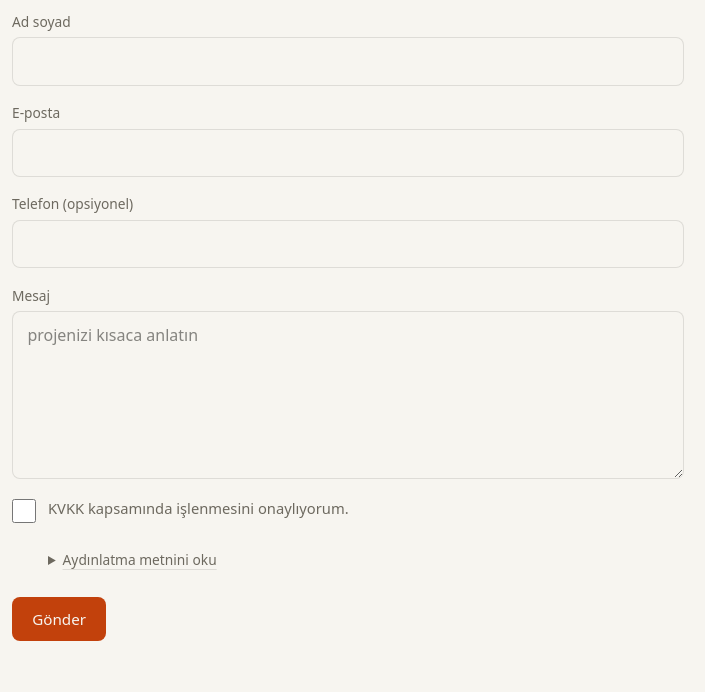
ContactForm › blocks submit while KVKK is unchecked, shows the consent message, no POST
Type "Ada Lovelace" into the field labelled "Ad soyad". click: (348, 62)
box: [12,37,684,86]
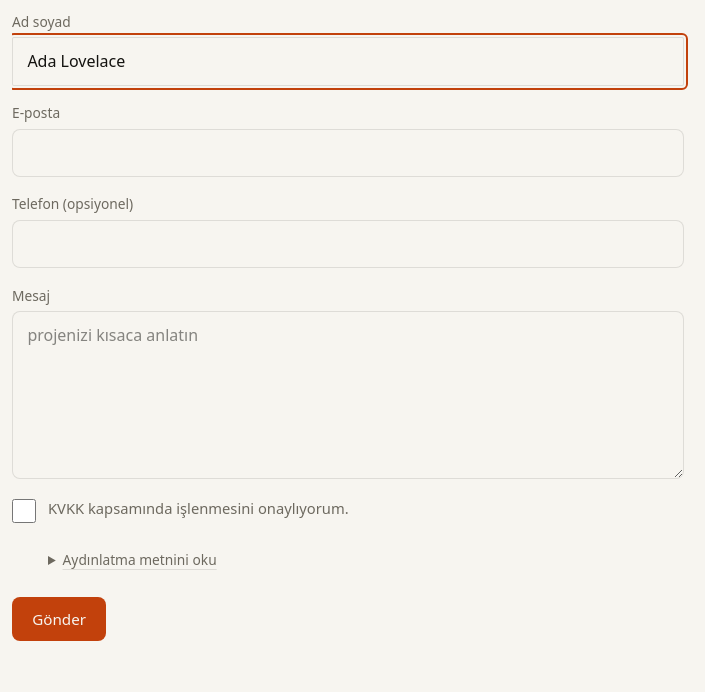
Type "ada@example.com" into the field labelled "E-posta". click: (348, 153)
box: [12,128,684,177]
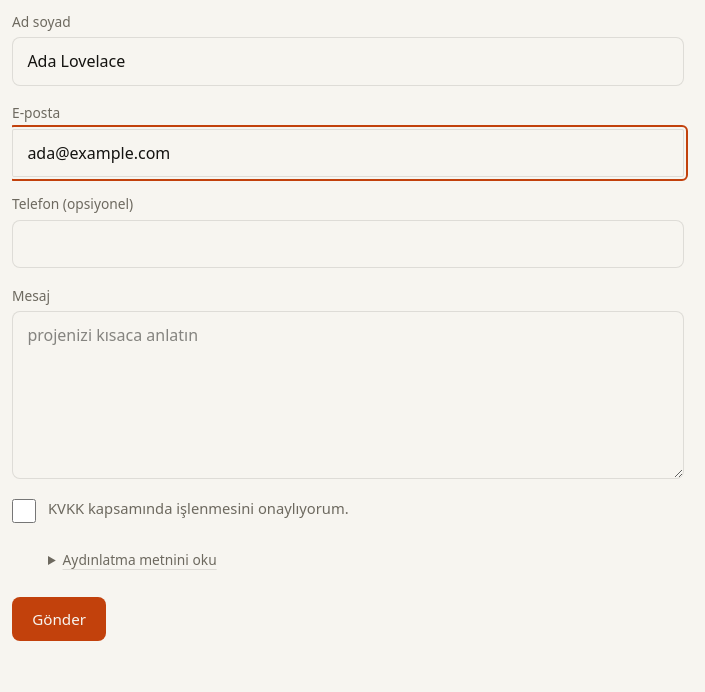
Type "Kurumsal web sitesi projesi." into the text box labelled "Mesaj". click: (348, 395)
box: [12,311,684,479]
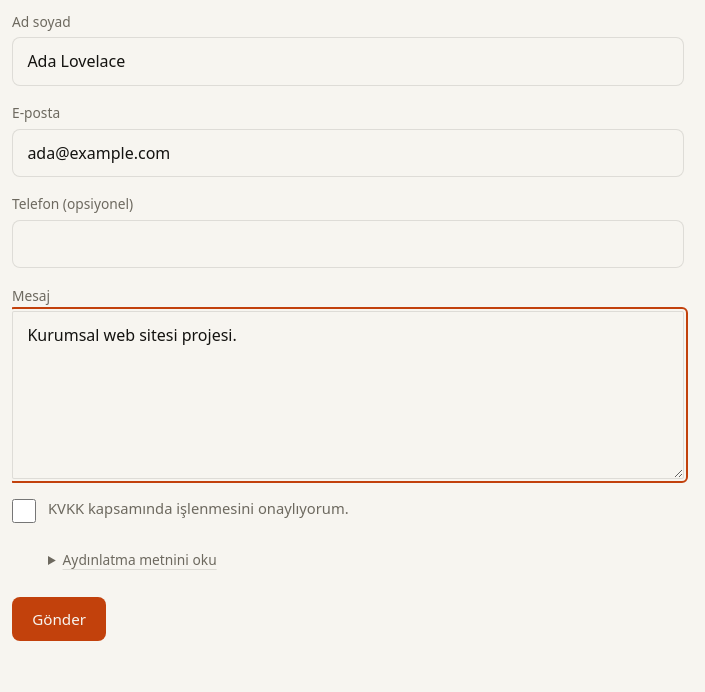
Click the button "Gönder". click: (59, 619)
box: [12,597,106,641]
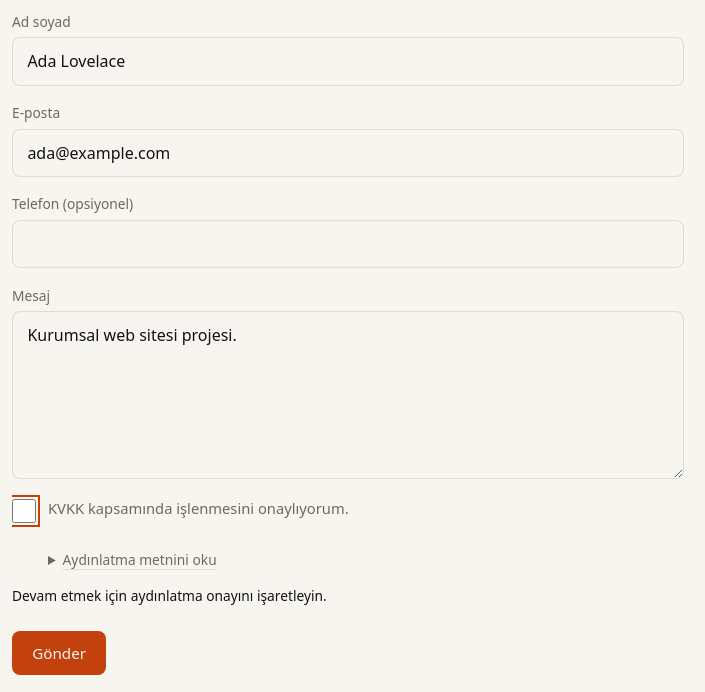
Now the text "Devam etmek için aydınlatma onayını işaretleyin." is shown, box [12,586,327,605]
